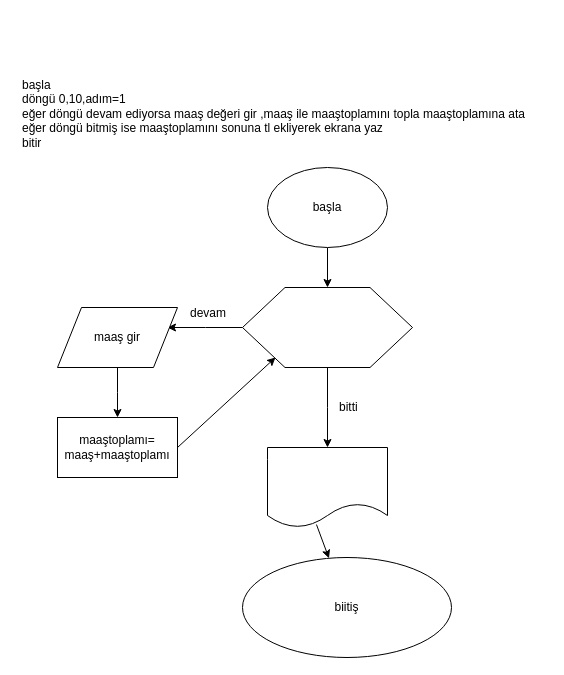
This 564x675 diagram has some shape labels left out. Each missing label, with the centre of its shape:
0,10,adım=1: the point at 327,327
maaştoplamı: the point at 327,487
